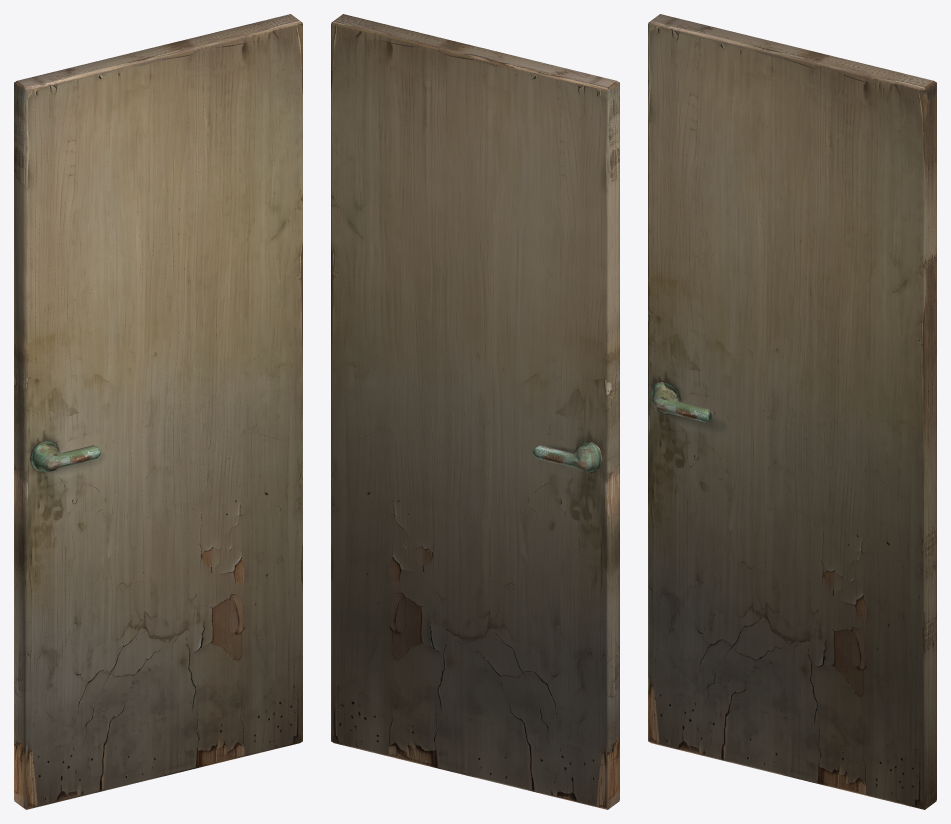
File: Meshy_AI_Closed_Wooden_Door_0518133752_texture.fbx
The picture shows the model from 3 angles, left to right: view 1: azimuth 30°, elevation 25°; view 2: azimuth 150°, elevation 25°; view 3: azimuth 330°, elevation 25°; orthographic projection.
Visible parts, largest first — view 1: Mesh_0; view 2: Mesh_0; view 3: Mesh_0.
Part boxes in pixels (x1,y1,x2,y2): Mesh_0: (14, 14, 302, 809); Mesh_0: (331, 14, 619, 809); Mesh_0: (648, 14, 936, 809).
Bounding box in the file's own units: 77.1 × 191 × 14.48.
1 material, 1 textured.
